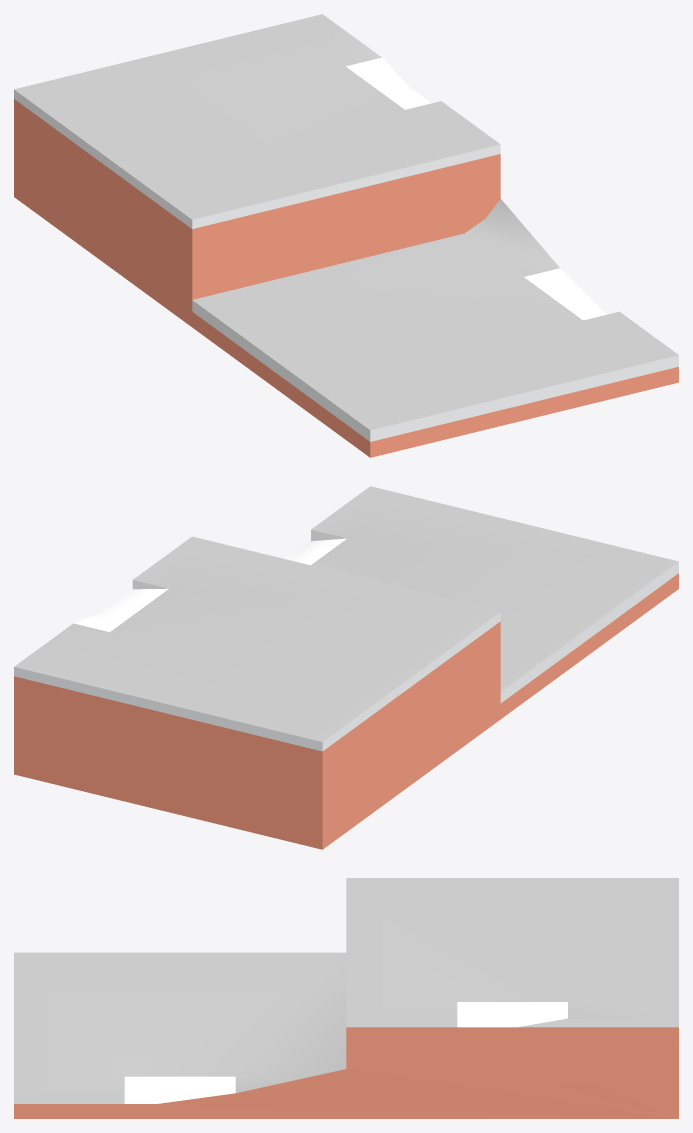
The model's file is platform_003.glb.
The picture shows the model from 3 angles, top to bottom: view 1: azimuth 30°, elevation 25°; view 2: azimuth 150°, elevation 25°; view 3: azimuth 270°, elevation 25°; orthographic projection. The views are drawn at different scales.
Parts seen in each view (by area): view 1: platform_003; view 2: platform_003; view 3: platform_003.
Part boxes in pixels (x1,y1,x2,y2): platform_003: (14,14,678,457); platform_003: (14,486,678,849); platform_003: (14,878,678,1118).
Bounding box in the file's own units: 15 × 5 × 30.
Materials: 1 (1 with a texture image).
